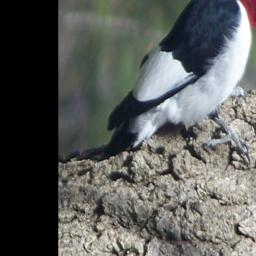Woodpecker: (97, 0, 256, 183)
